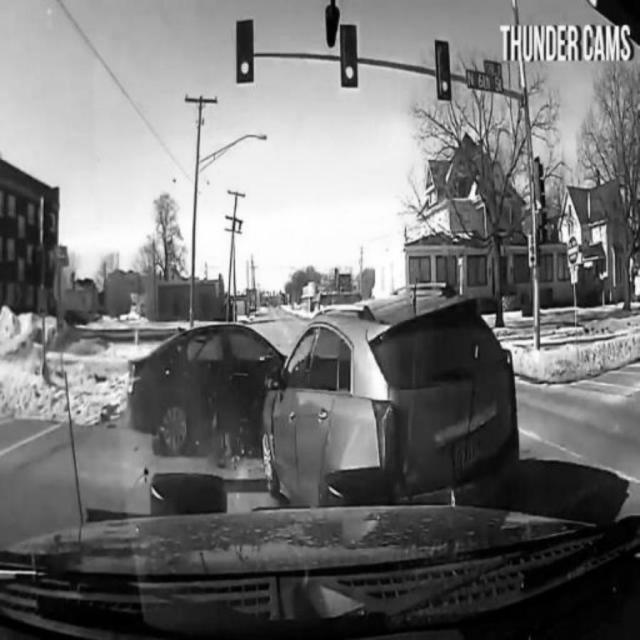accident: (123, 299, 523, 503)
